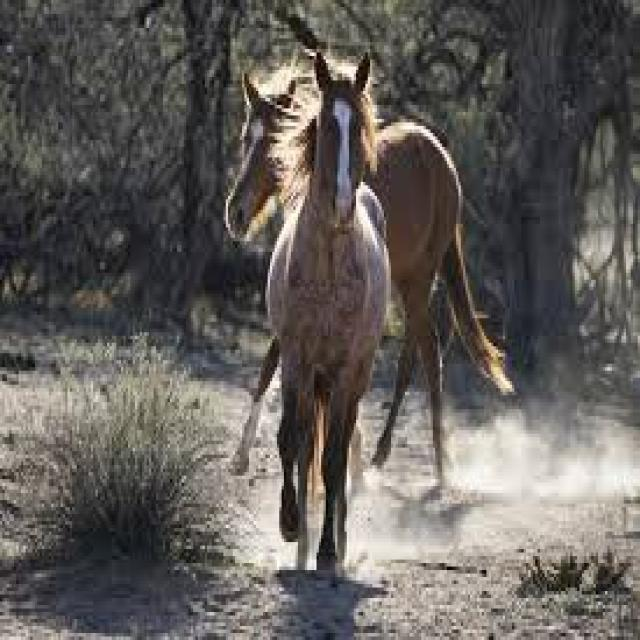Horse: (264, 46, 386, 592)
